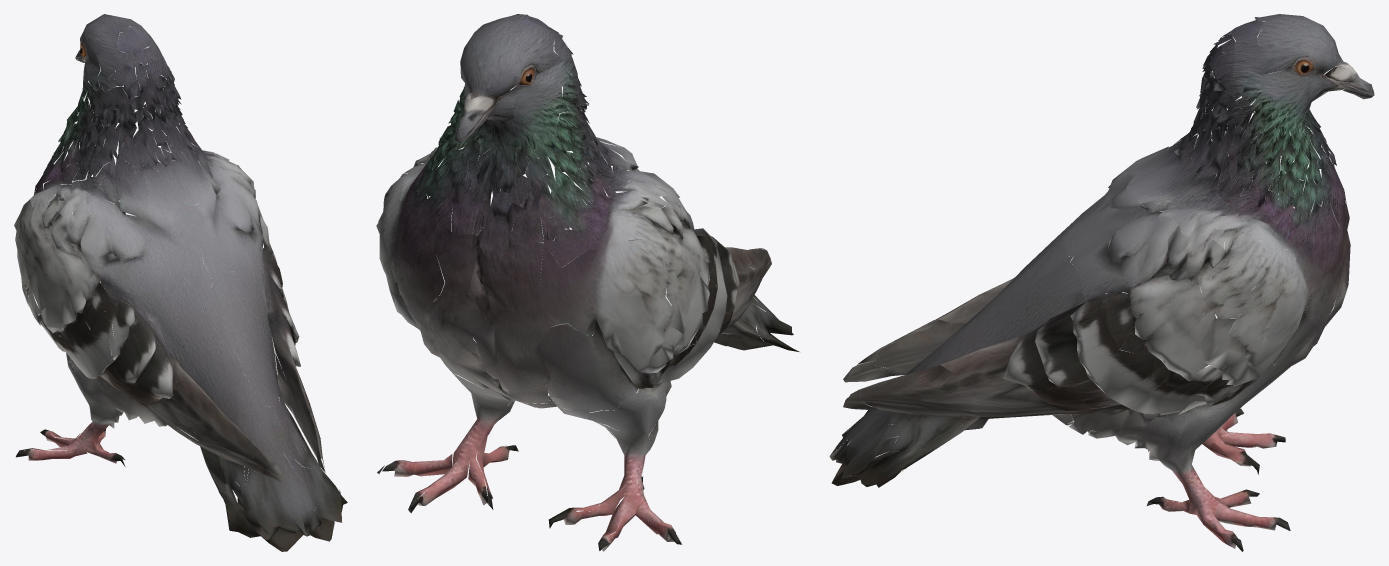
File: pigeon.glb
The picture shows the model from 3 angles, left to right: view 1: azimuth 30°, elevation 25°; view 2: azimuth 150°, elevation 25°; view 3: azimuth 270°, elevation 25°; orthographic projection. The views are drawn at different scales.
Parts seen in each view (by area): view 1: tripo_node_5383d4fd-6042-45d4-9aba-de287bdfb4de; view 2: tripo_node_5383d4fd-6042-45d4-9aba-de287bdfb4de; view 3: tripo_node_5383d4fd-6042-45d4-9aba-de287bdfb4de.
Part boxes in pixels (left/top/right/bottom): tripo_node_5383d4fd-6042-45d4-9aba-de287bdfb4de: left=14, top=14, right=347, bottom=551; tripo_node_5383d4fd-6042-45d4-9aba-de287bdfb4de: left=376, top=14, right=799, bottom=551; tripo_node_5383d4fd-6042-45d4-9aba-de287bdfb4de: left=829, top=14, right=1374, bottom=551.
Bounding box in the file's own units: 0.5906 × 0.9485 × 0.9916.
Materials: 1 (1 with a texture image).
